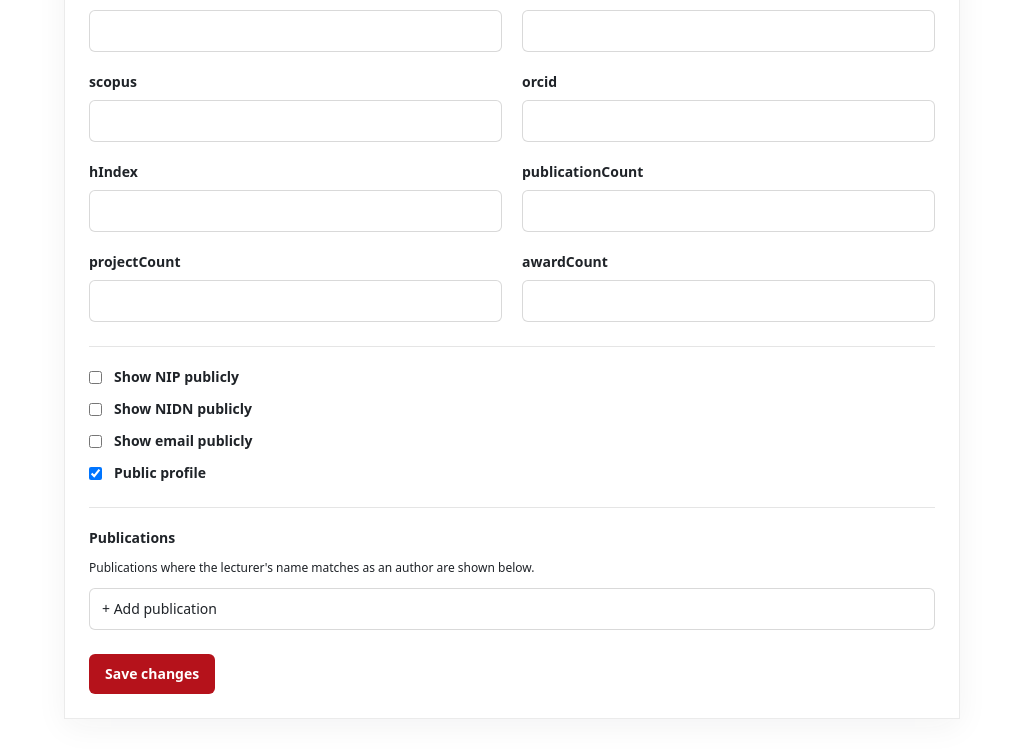
Test case: admin edit dosen publication matching › only offers publications whose authors match the lecturer
(page scrolled)
Click the button "+ Add publication": (159, 608) [89,588,935,630]
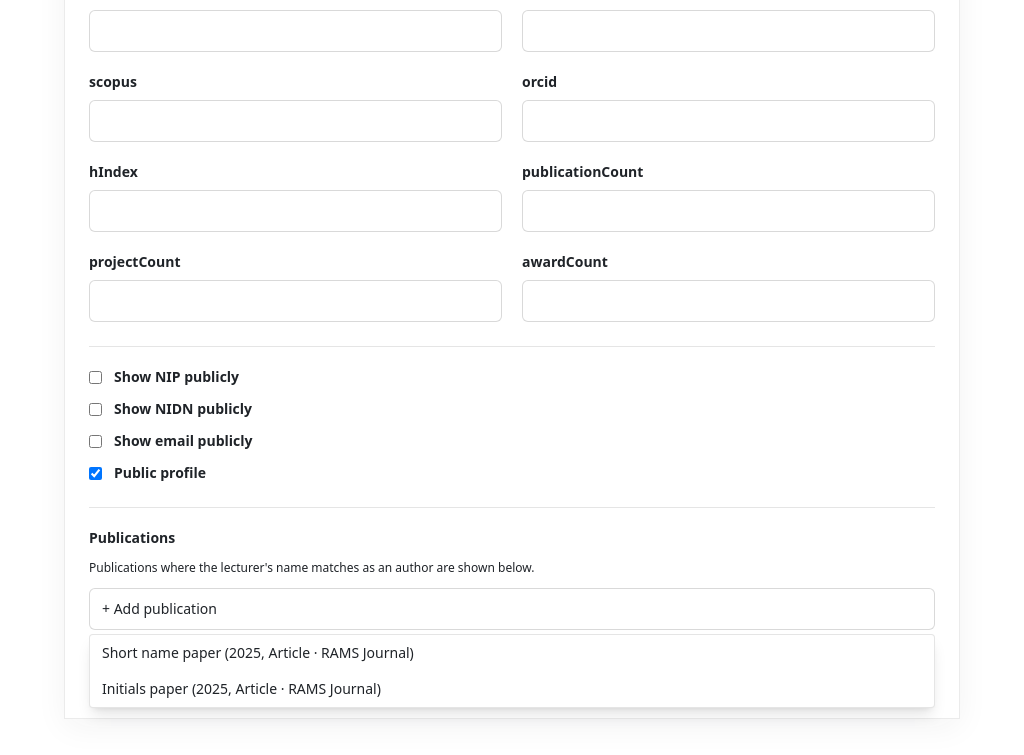
expect the list with class "absolute" is shown: met, box [89,634,935,708]
